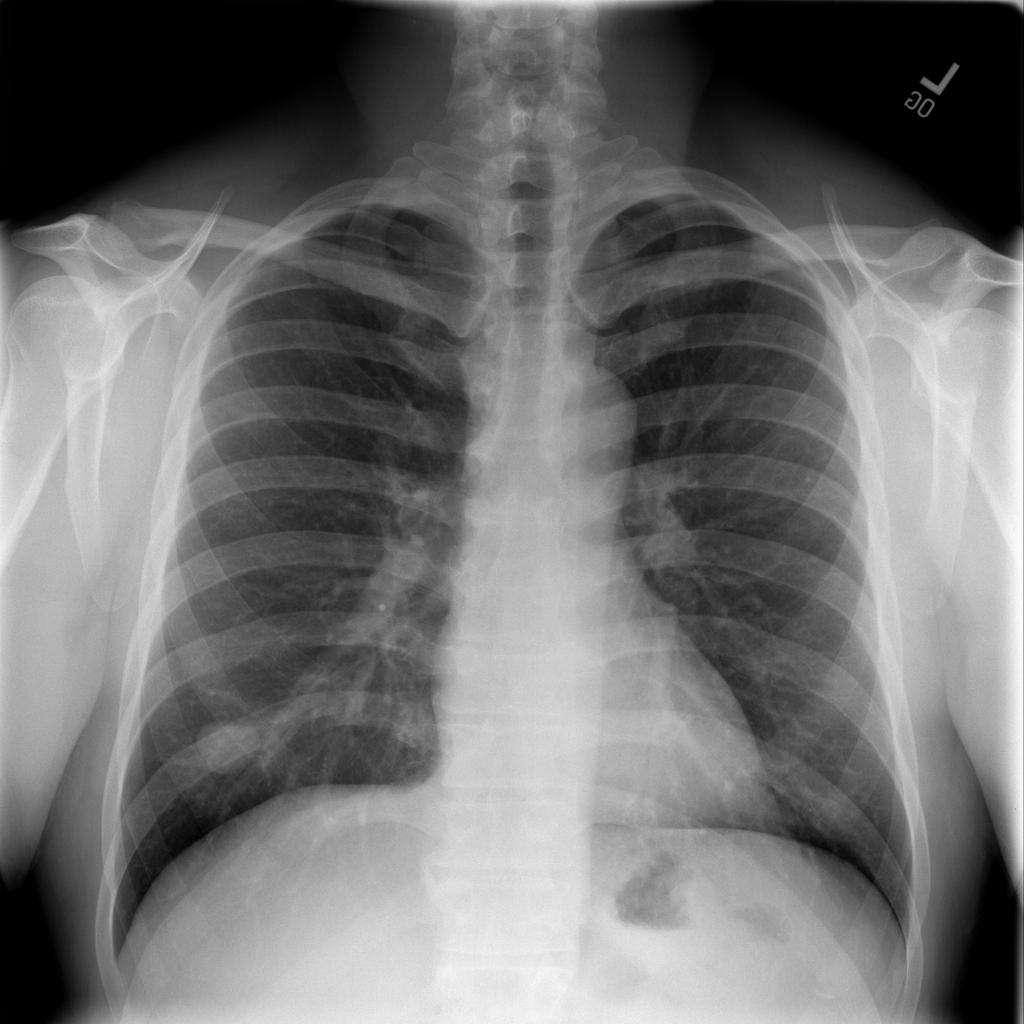nodule: (176, 695, 287, 799)
